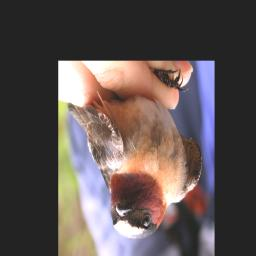Swallow: (68, 67, 201, 239)
